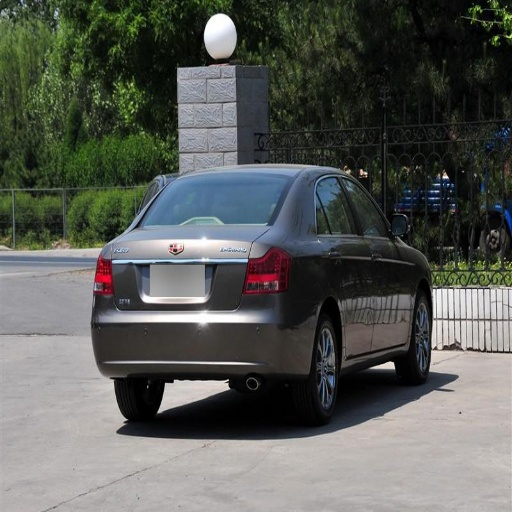back_bumper: (91, 294, 315, 374)
back_right_door: (303, 174, 372, 355)
tailgate: (108, 225, 265, 309)
